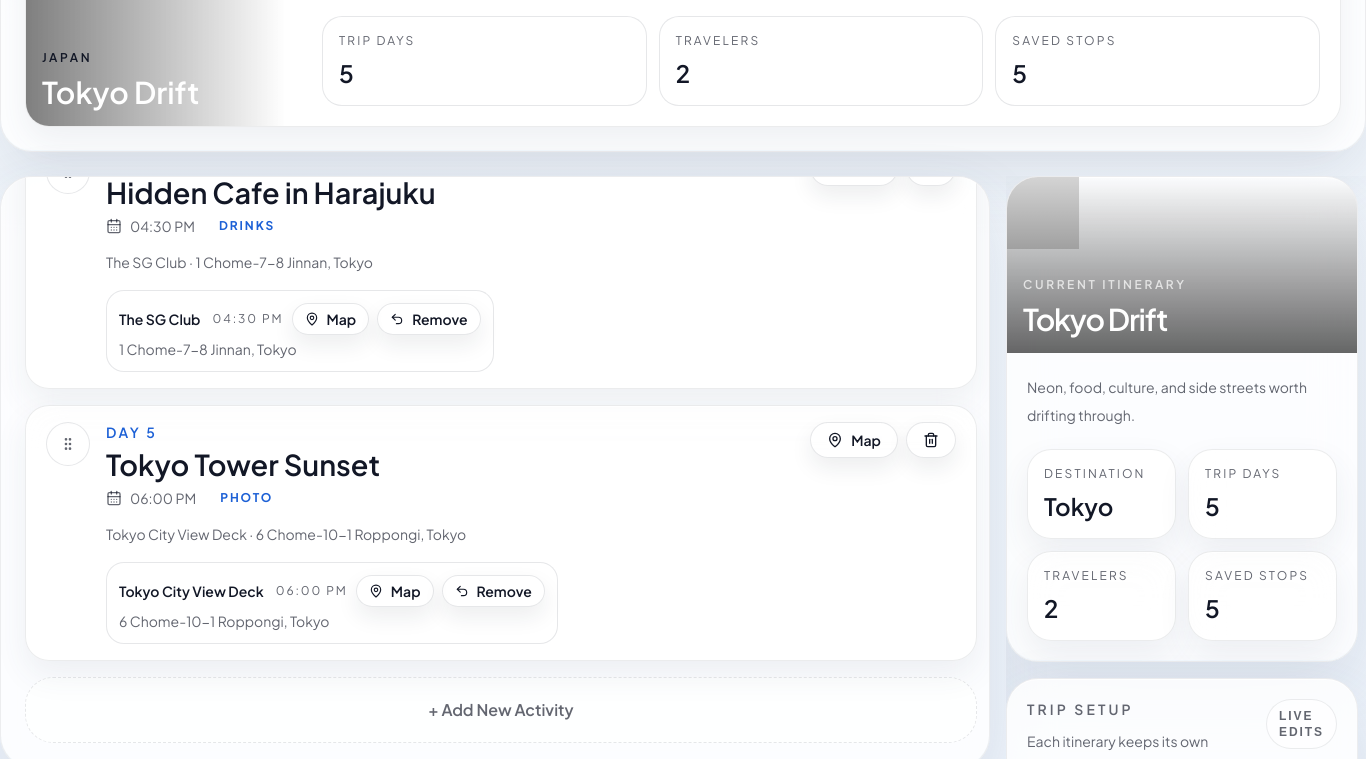
Test: TripsBoard › adds and deletes trip days from the itinerary
This screenshot has width=1366, height=759.
(page scrolled)
Click the button "+ Add New Activity" at coordinates (501, 710), box [25, 677, 977, 743]
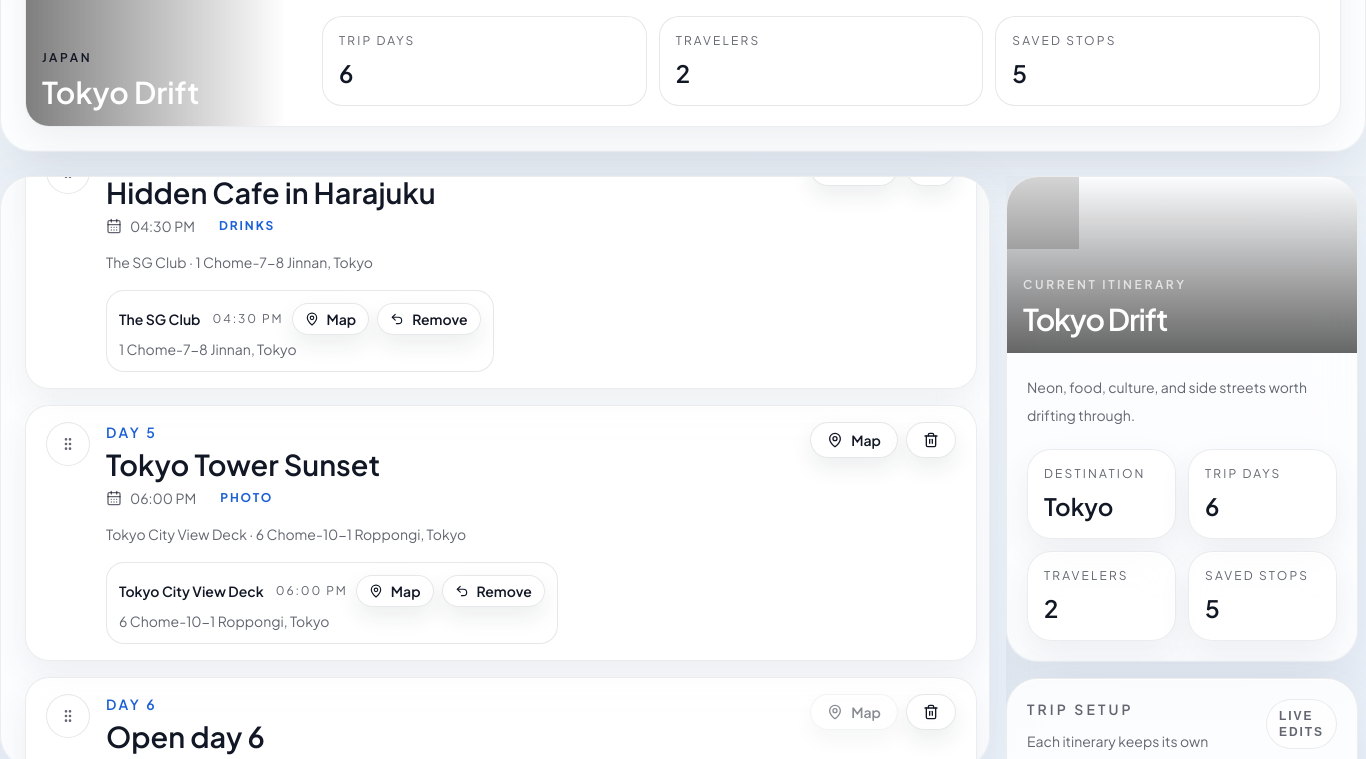
Expected: the text "Day 6" is shown, [106, 695, 157, 713]
Click the button named "delete day 6" at coordinates (931, 712), box [906, 694, 956, 730]
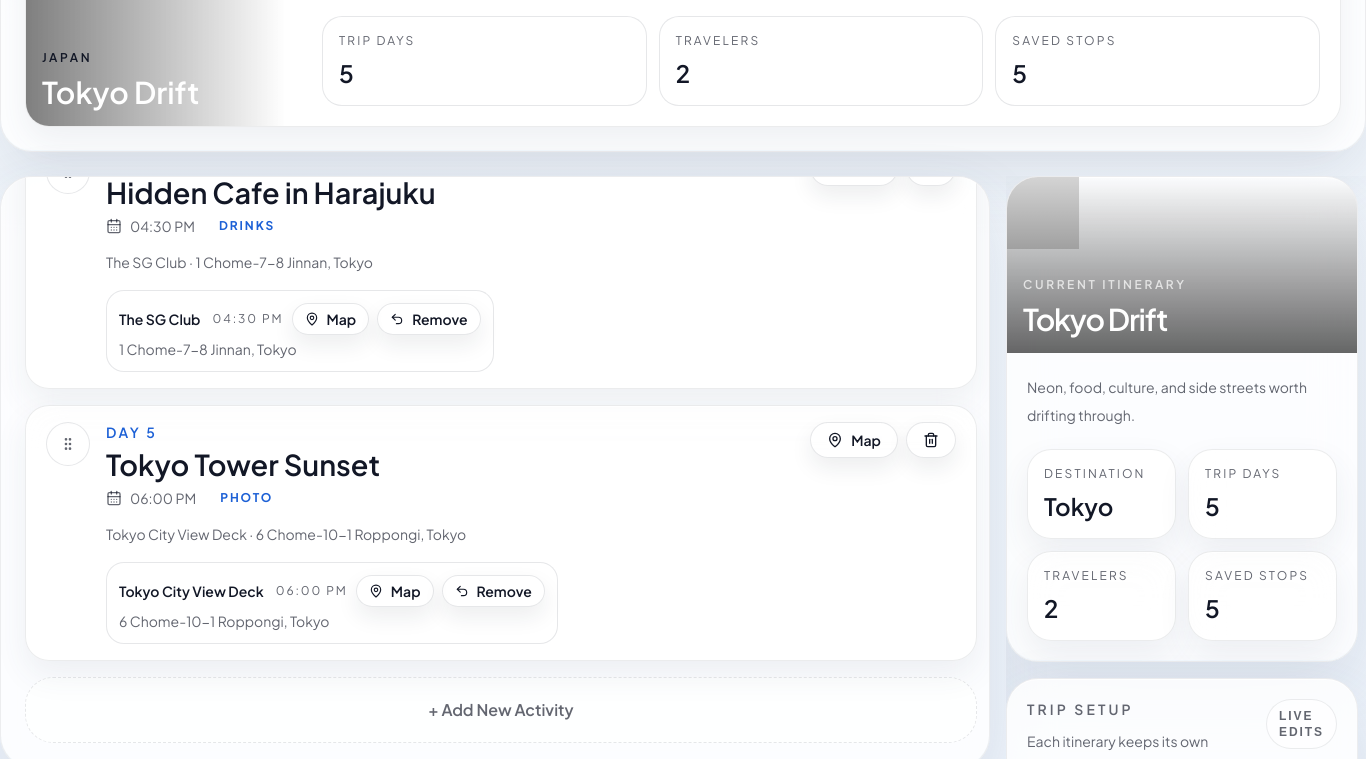
Expected: the text "Day 6" is gone
